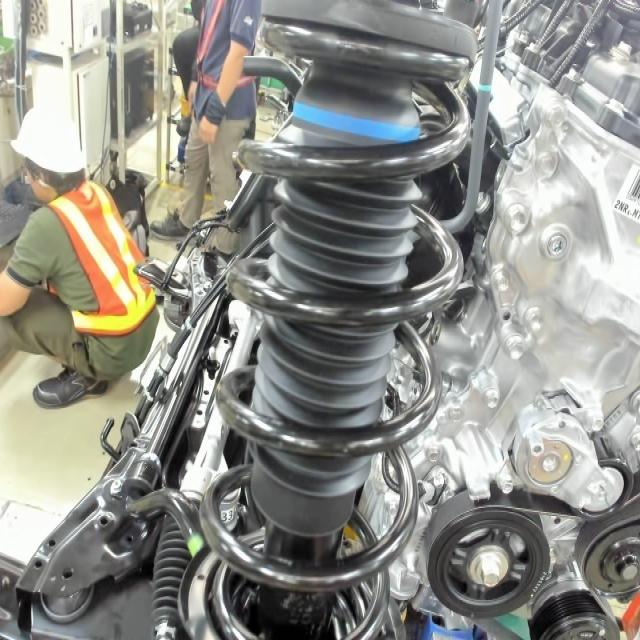Bar Stabilizer-HJ: (186, 532, 205, 559)
Bumper-BR: (282, 94, 433, 150)
Hose Canister-HJ: (475, 81, 496, 95)
